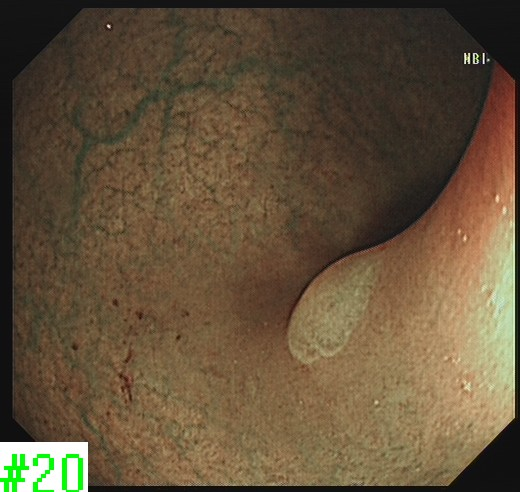others: (284, 242, 385, 366)
